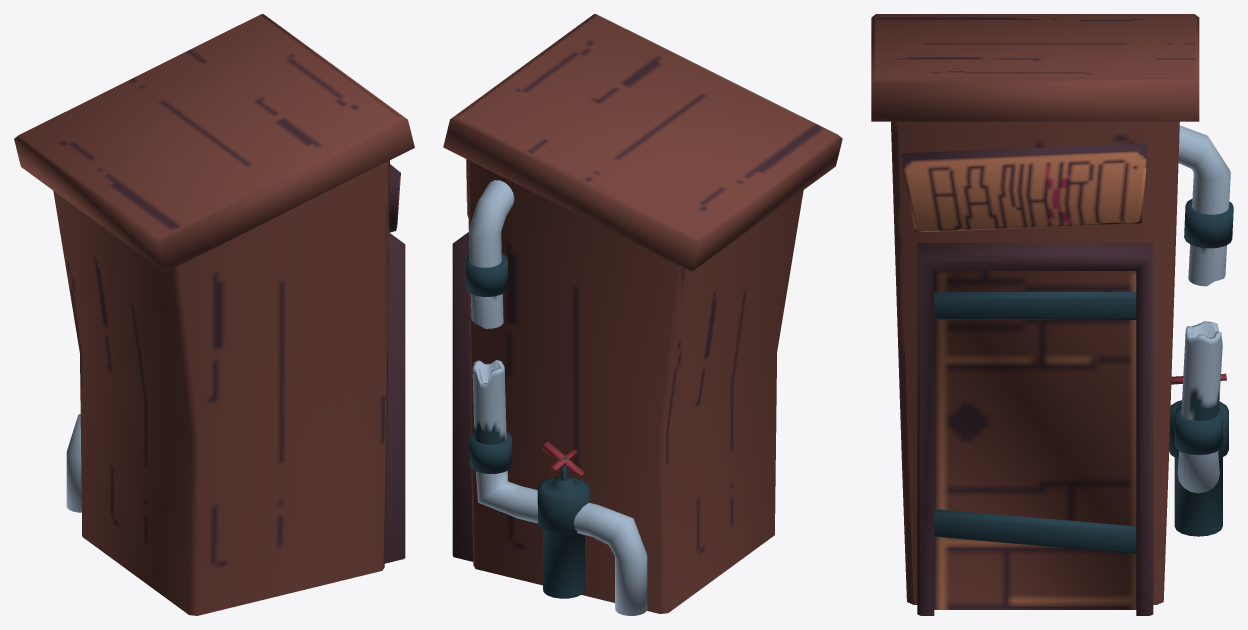
File: BanheiroQuebrado.fbx
3 views of the same model, side by side, from view 1: azimuth 30°, elevation 25°; view 2: azimuth 150°, elevation 25°; view 3: azimuth 270°, elevation 25° (orthographic). The views are drawn at different scales.
Visible parts, largest first — view 1: BanheiroQuebrado; view 2: BanheiroQuebrado; view 3: BanheiroQuebrado.
Part boxes in pixels (box(x1,y1,x2,y2)): BanheiroQuebrado: box(14, 14, 414, 615); BanheiroQuebrado: box(443, 14, 842, 615); BanheiroQuebrado: box(871, 14, 1233, 615).
Size of the model in its own units: 350 by 359 by 576.
